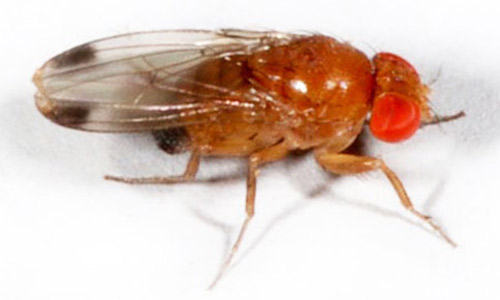Fruit fly: (46, 9, 447, 231)
